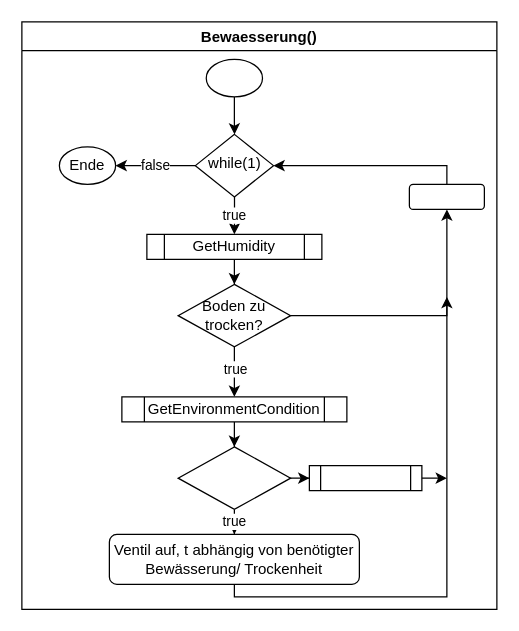
This 519x631 diagram has some shape labels left out. Each missing label, with the box of its shape:
Conditions OK?: (177, 446, 291, 509)
PublishError: (308, 464, 422, 491)
sleep: (408, 183, 484, 209)
Start: (205, 58, 262, 97)
